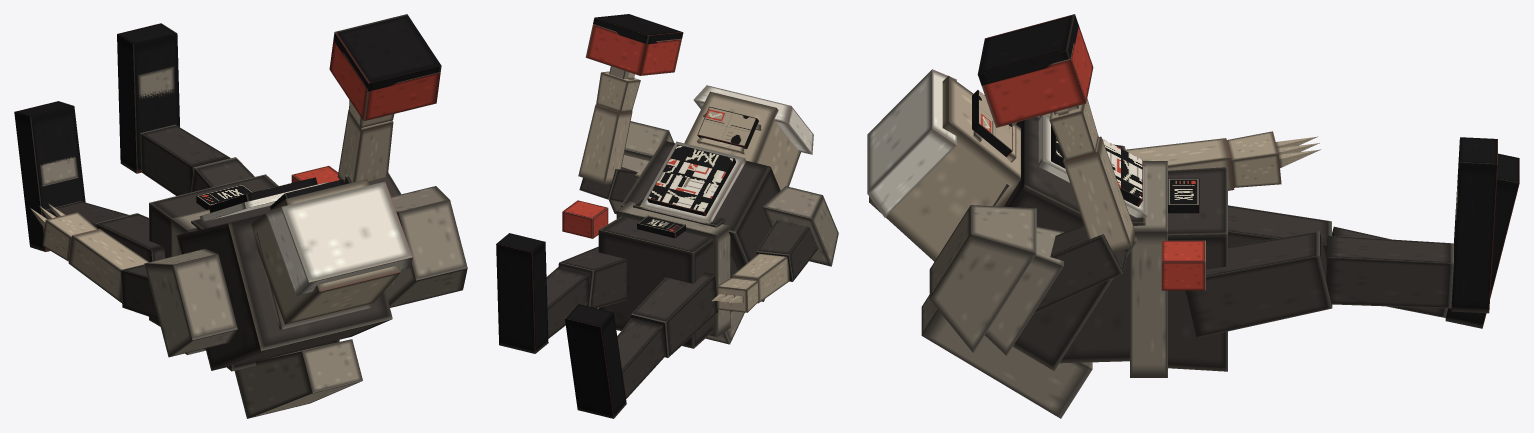
Rendered from exceptor_attack.obj.
3 views of the same model, side by side, from view 1: azimuth 30°, elevation 25°; view 2: azimuth 150°, elevation 25°; view 3: azimuth 270°, elevation 25° (orthographic). The views are drawn at different scales.
Parts seen in each view (by area): view 1: exceptor_attack; view 2: exceptor_attack; view 3: exceptor_attack.
Part boxes in pixels (x1,y1,x2,y2): exceptor_attack: [14, 14, 467, 418]; exceptor_attack: [496, 14, 838, 418]; exceptor_attack: [867, 14, 1519, 418].
Size of the model in its own units: 0.6138 by 0.73 by 1.01.
1 material, 1 textured.
